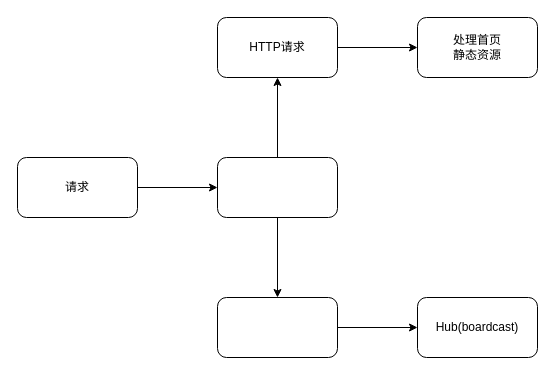
Some shapes in this 555 by 375 pixel diagram are drawn without their labels. The shapes that lost their labels are listed below. From the top down, each one's centre as x and y in pixels, then its label:
[277,187]: Web处理
[277,327]: Websocket请求
